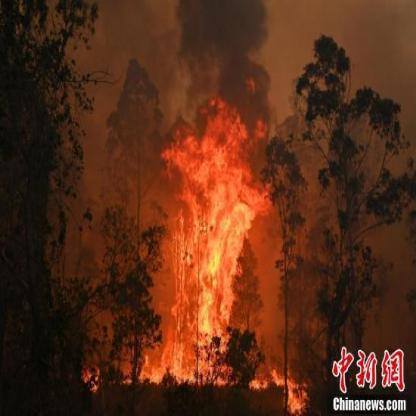fire: (141, 87, 309, 408), (74, 352, 102, 394)
